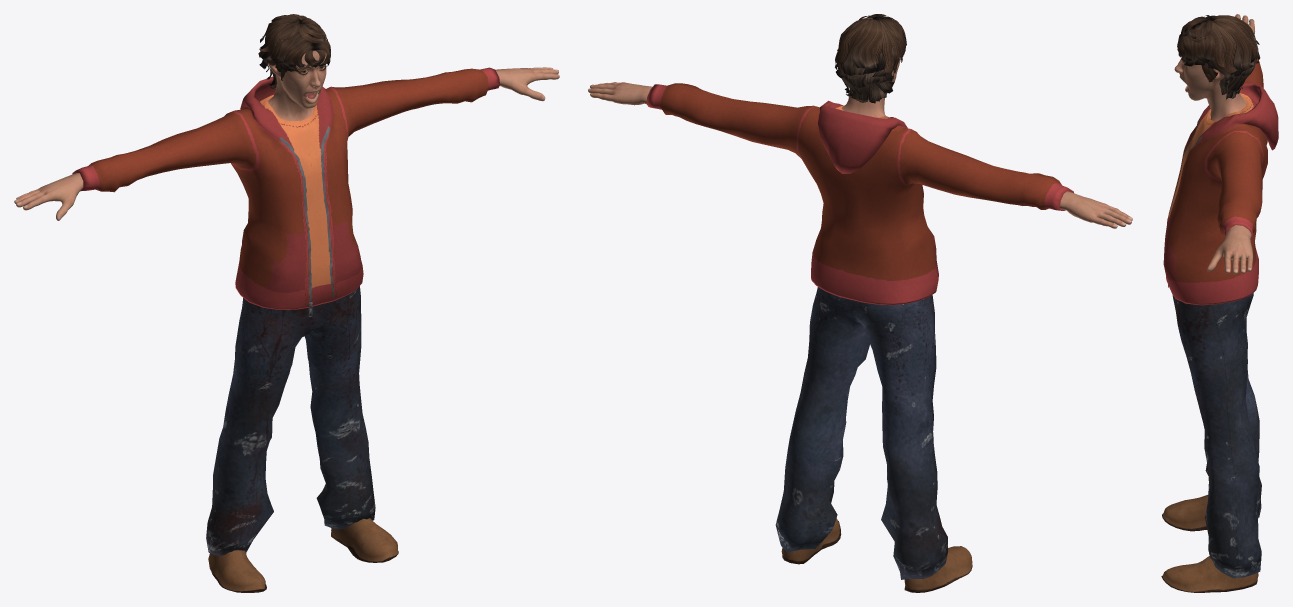
File: mouth_open.obj
The picture shows the model from 3 angles, left to right: view 1: azimuth 30°, elevation 25°; view 2: azimuth 150°, elevation 25°; view 3: azimuth 270°, elevation 25°; orthographic projection.
Parts seen in each view (by area): view 1: Tops, Bottoms, BodyParts, Shoes, Hair; view 2: Tops, Bottoms, Hair, BodyParts, Shoes; view 3: Tops, Bottoms, Hair, BodyParts, Shoes.
Part boxes in pixels (x1,y1,x2,y2): Tops: (72, 67, 499, 316); Bottoms: (206, 286, 375, 555); BodyParts: (14, 50, 559, 220); Shoes: (208, 489, 398, 592); Hair: (258, 14, 330, 89); Tops: (646, 83, 1073, 305); Bottoms: (775, 287, 947, 579); Hair: (835, 14, 906, 103); BodyParts: (588, 60, 1132, 228); Shoes: (781, 508, 972, 592); Tops: (1163, 58, 1278, 305); Bottoms: (1172, 293, 1261, 578); Hair: (1177, 15, 1260, 99); BodyParts: (1174, 14, 1254, 274); Shoes: (1161, 495, 1258, 592).
Size of the model in its own units: 187 by 180 by 35.54.
